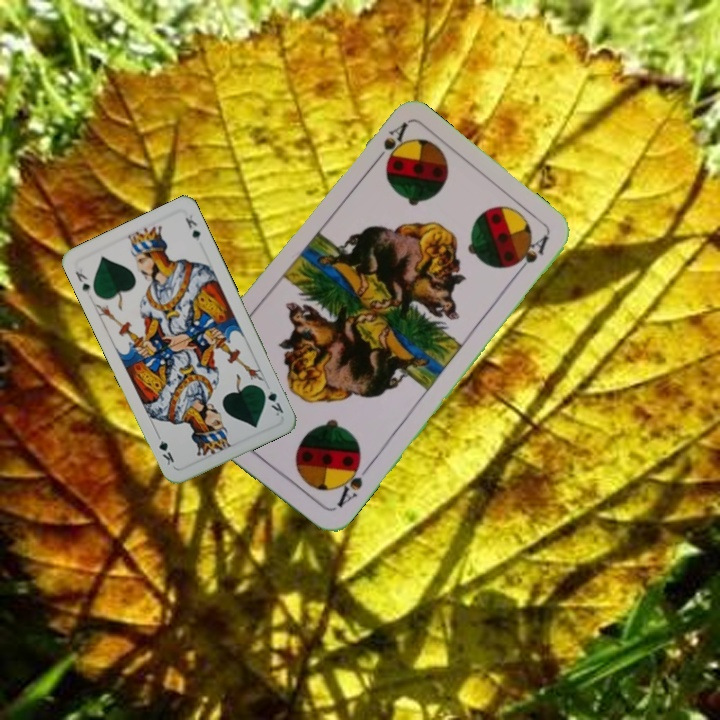GK: (257, 383, 286, 419), (71, 267, 93, 297)
SA: (367, 118, 410, 170), (332, 456, 372, 511)
